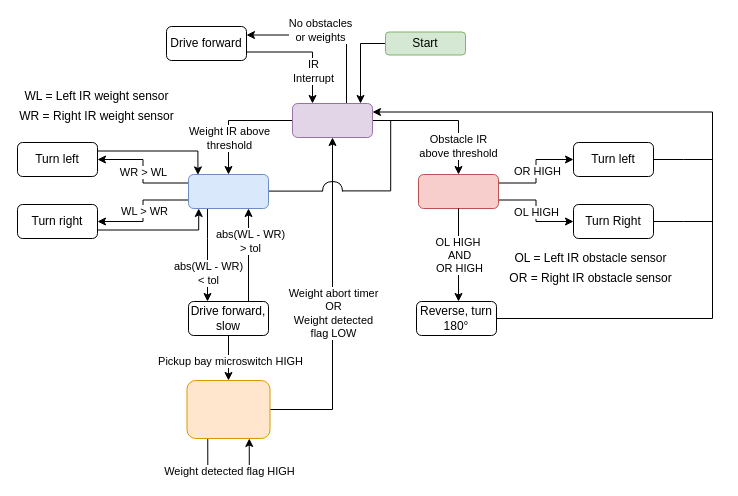
This 738x496 diagram has some shape labels left out. The shapes that lost their labels are listed below. From the top down, each one's centre as x and y in pixels, then its label:
pixel 332 120: Searching for weights
pixel 228 191: Weight detected
pixel 458 191: Obstacle detected
pixel 228 409: Relinquish motor control to pickup state machine
